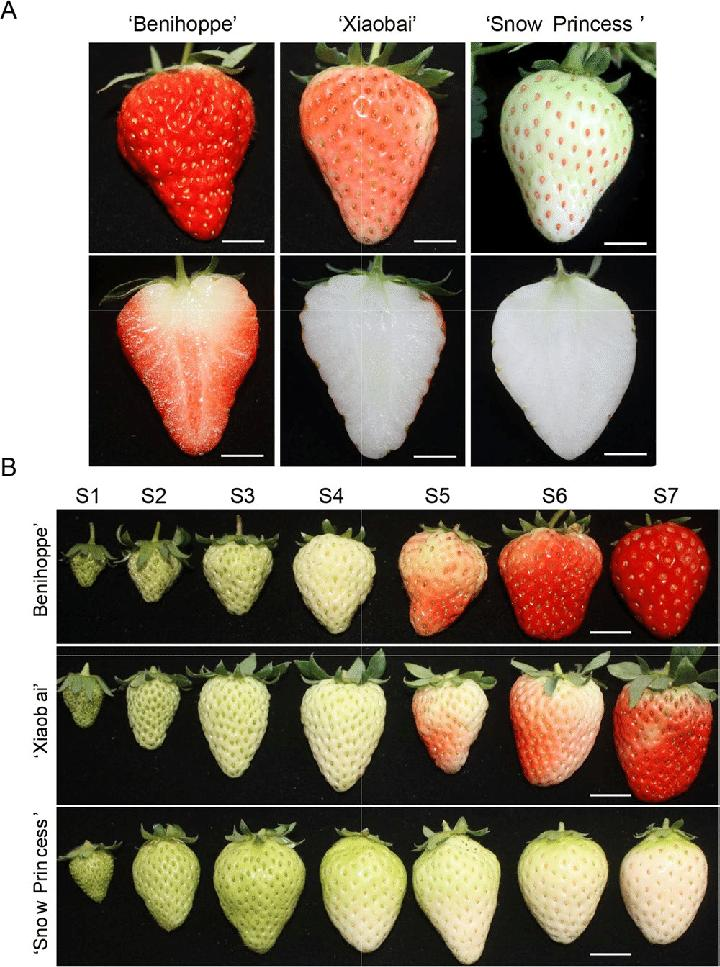straw-ripe: (117, 59, 254, 236), (614, 668, 710, 797), (498, 521, 600, 638), (614, 518, 708, 636)
straw-unripe: (306, 61, 437, 241), (501, 69, 634, 240), (413, 832, 503, 964), (214, 828, 309, 953), (518, 828, 611, 952), (512, 668, 605, 790), (621, 825, 710, 946), (319, 831, 406, 951), (302, 669, 385, 794), (401, 529, 489, 636), (294, 534, 377, 631), (197, 674, 270, 777), (132, 831, 201, 933), (416, 672, 487, 770), (203, 536, 274, 617), (128, 670, 181, 749), (127, 540, 184, 607), (72, 843, 114, 905), (65, 672, 106, 727), (70, 541, 111, 589)
